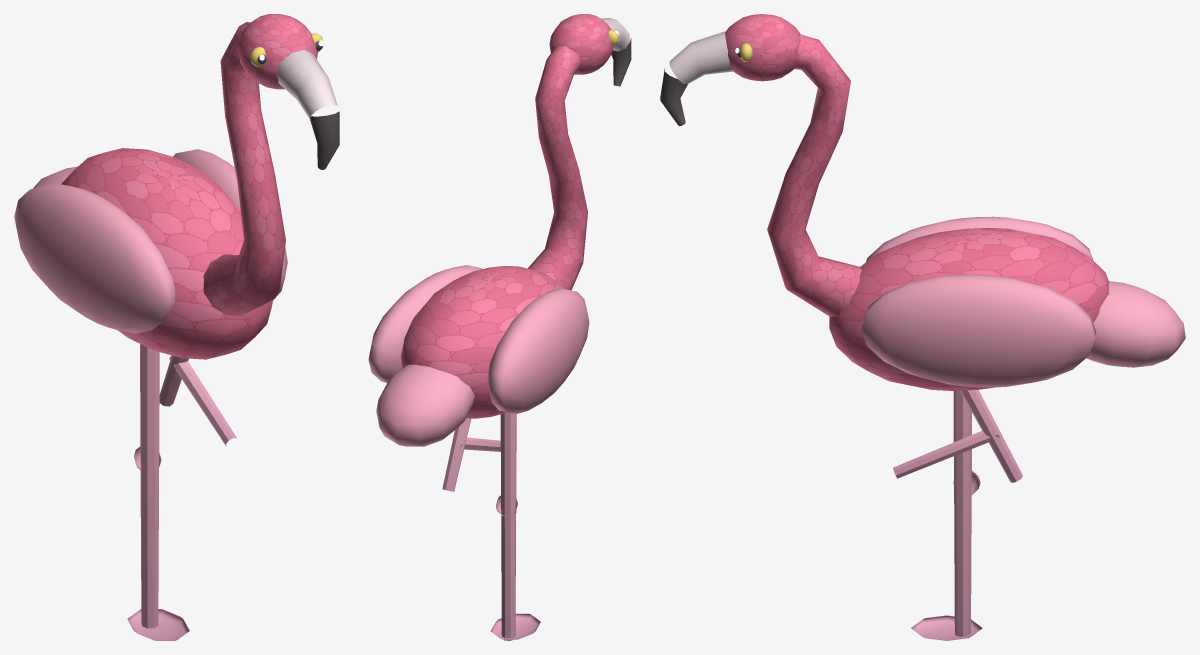
Rendered from anime_flamingo.glb.
3 views of the same model, side by side, from view 1: azimuth 30°, elevation 25°; view 2: azimuth 150°, elevation 25°; view 3: azimuth 270°, elevation 25° (orthographic). The views are drawn at different scales.
Visible parts, largest first — view 1: anime_flamingo; view 2: anime_flamingo; view 3: anime_flamingo.
Boxes of the visible parts, x1,y1,x2,y2 form: anime_flamingo: (14, 14, 339, 640); anime_flamingo: (368, 14, 631, 640); anime_flamingo: (660, 14, 1185, 640).
Size of the model in its own units: 0.5184 by 1.72 by 1.31.
Materials: 7 (1 with a texture image).
